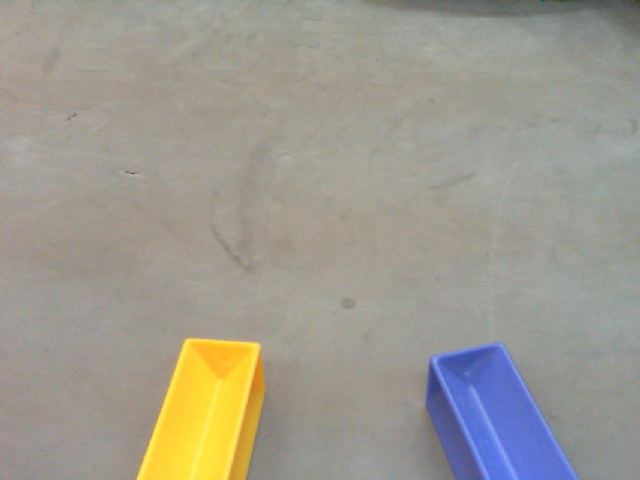BlueSample: (420, 341, 579, 480)
YellowSample: (131, 335, 276, 480)
